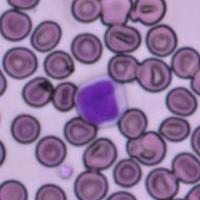M: (74, 74, 129, 128)
